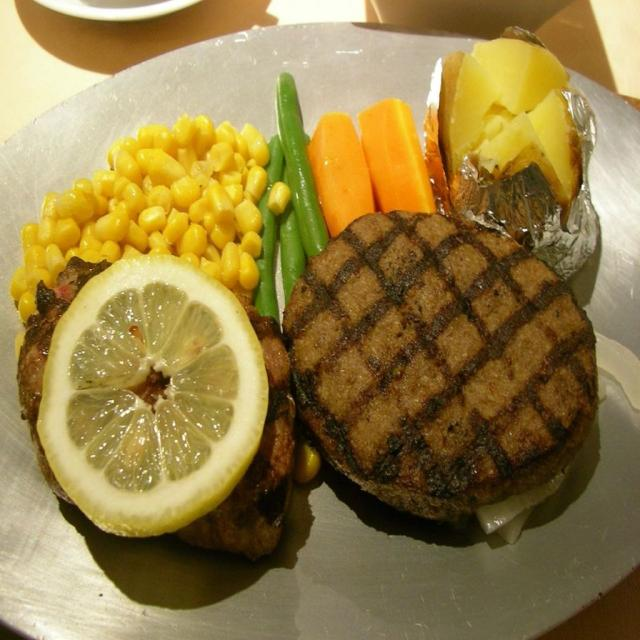Lemon: (34, 252, 270, 537)
